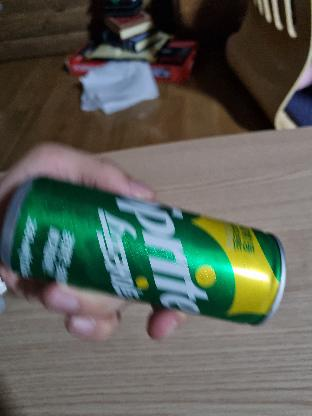Can: (28, 186, 272, 330)
